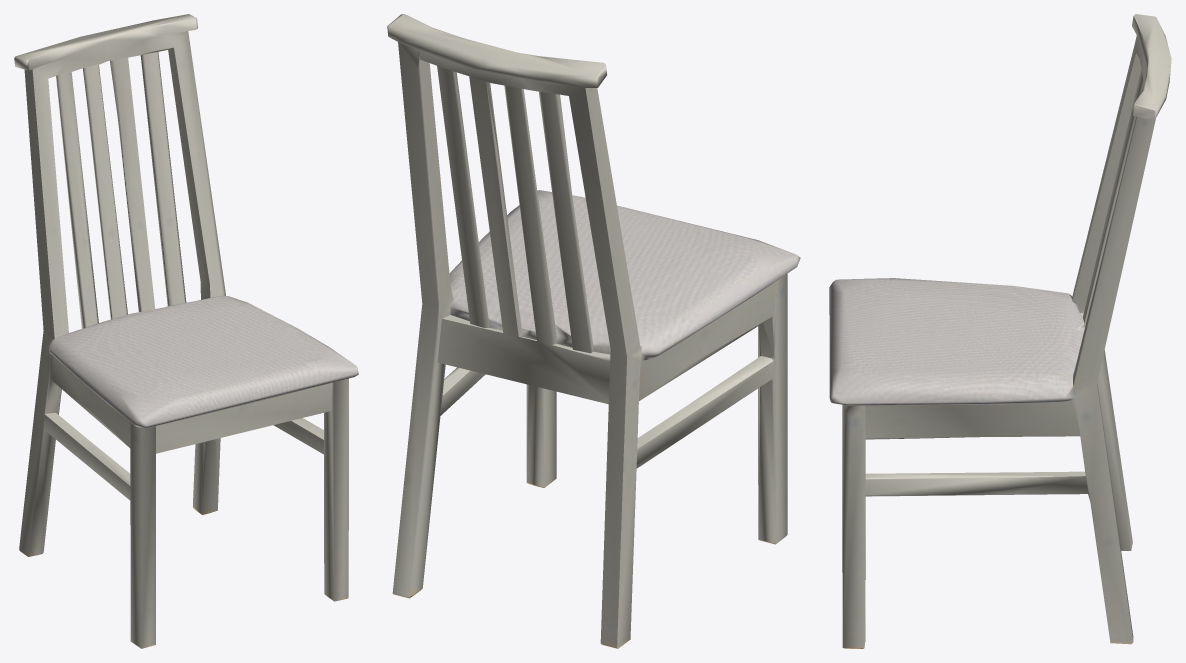
File: 33 - ÅLHULT Chair - beigeKabusa light beige.glb
3 views of the same model, side by side, from view 1: azimuth 30°, elevation 25°; view 2: azimuth 150°, elevation 25°; view 3: azimuth 270°, elevation 25° (orthographic). The views are drawn at different scales.
Visible parts, largest first — view 1: ASY_ART_20581818_S01_NV01; view 2: ASY_ART_20581818_S01_NV01; view 3: ASY_ART_20581818_S01_NV01.
Boxes of the visible parts, <box> form: ASY_ART_20581818_S01_NV01: <box>14,14,358,648</box>; ASY_ART_20581818_S01_NV01: <box>387,14,800,648</box>; ASY_ART_20581818_S01_NV01: <box>829,14,1171,648</box>.
Size of the model in its own units: 0.4523 by 0.9427 by 0.5463.
Materials: 1 (1 with a texture image).
